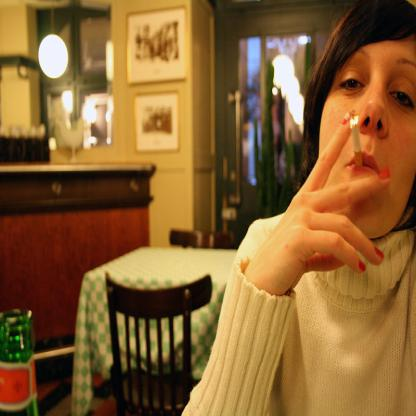smoking: (351, 112, 362, 170)
